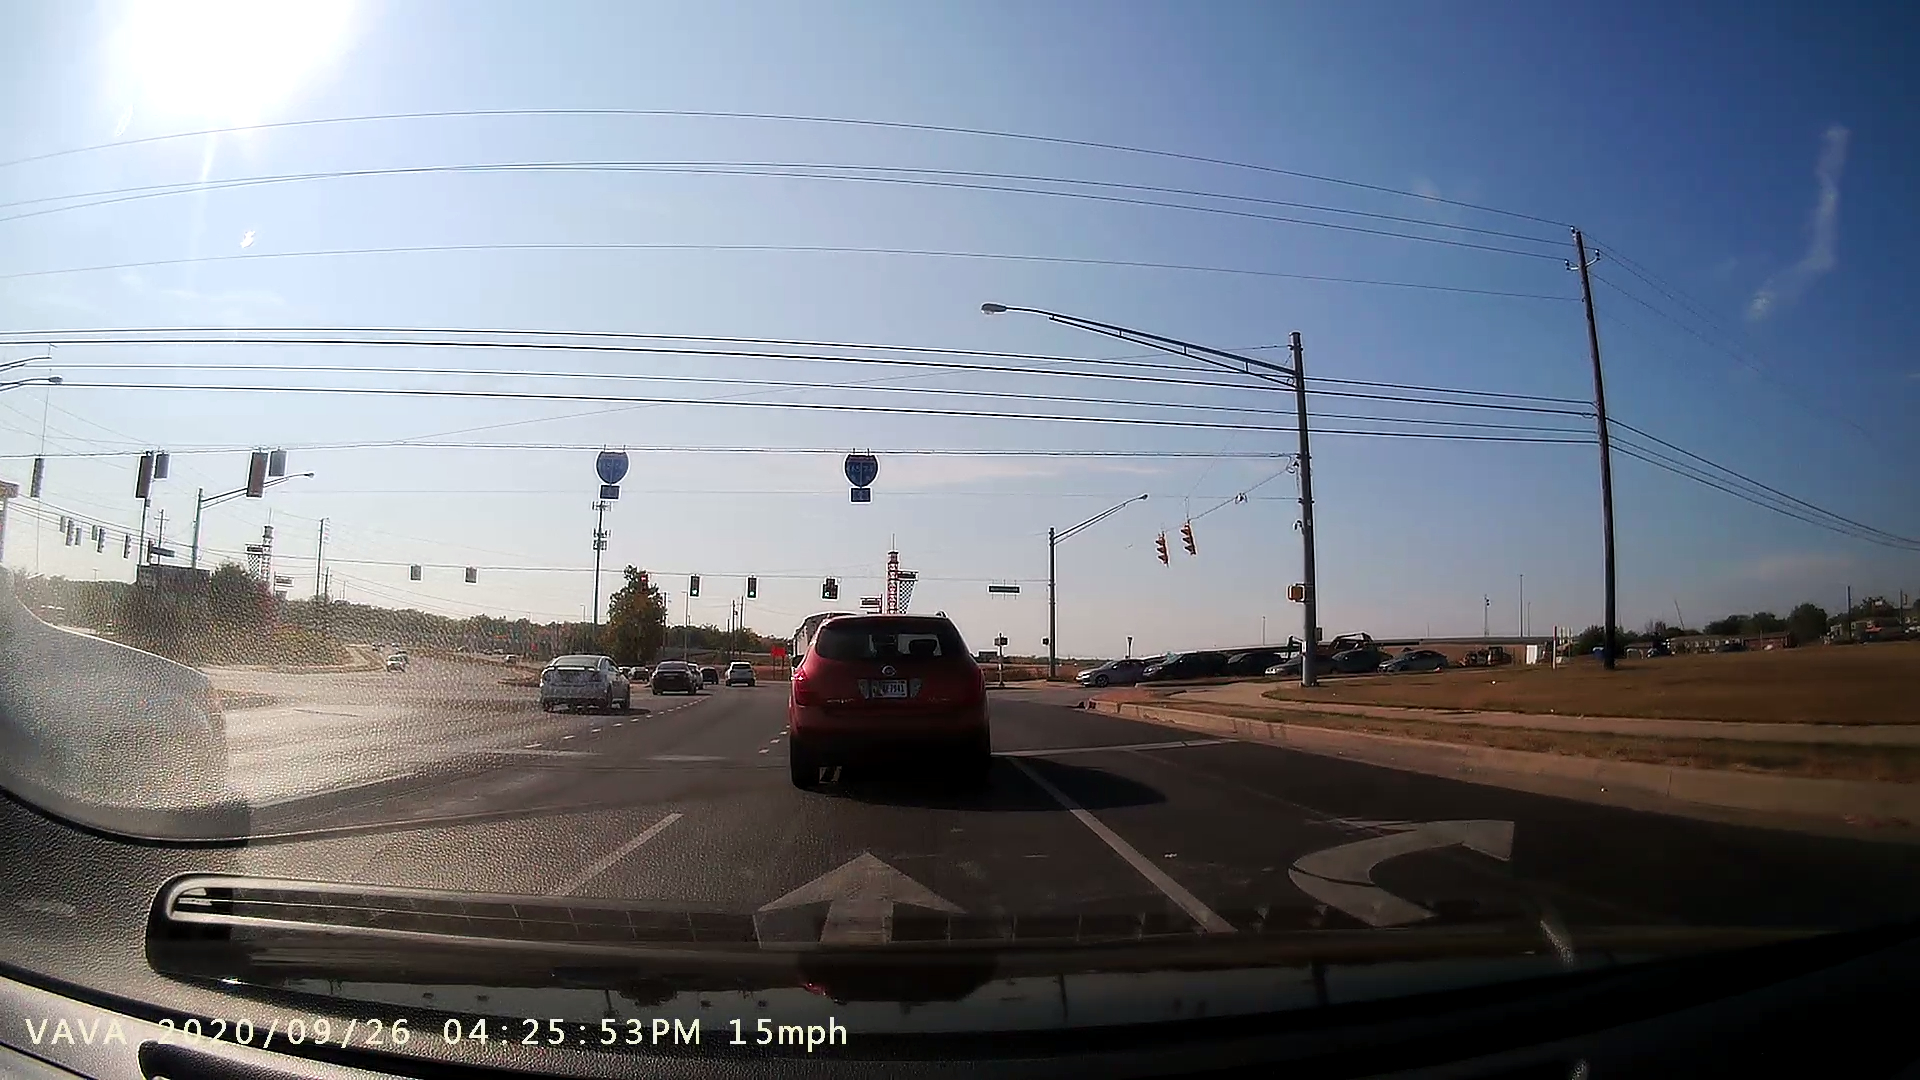right_turn: (1284, 811, 1515, 928)
